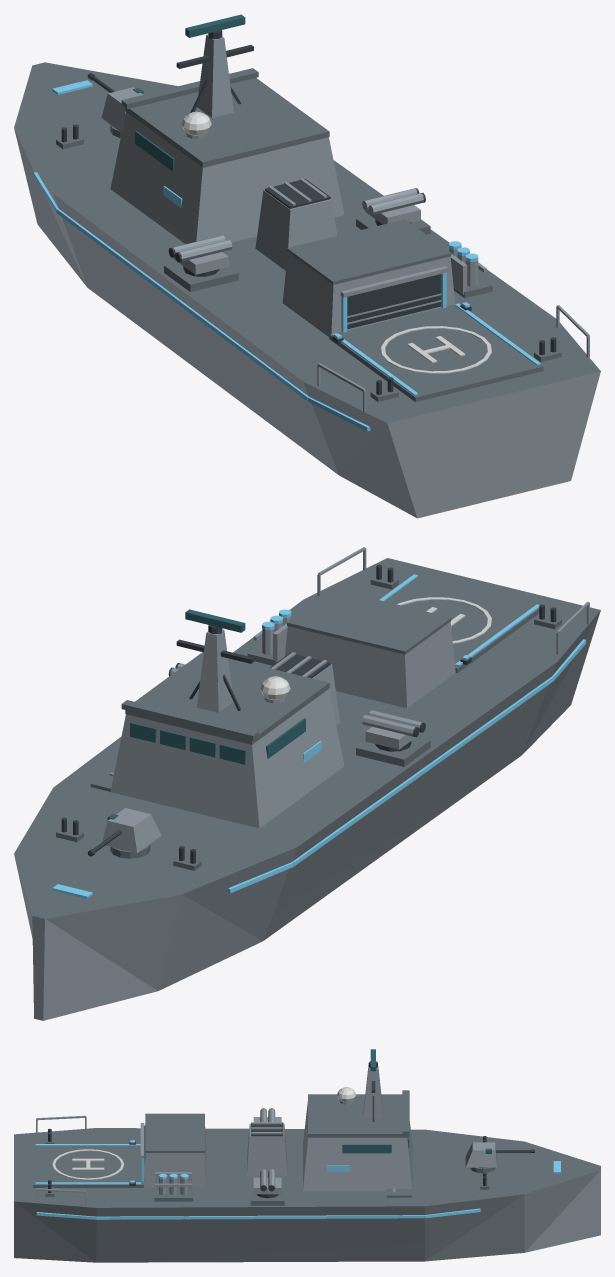
Rendered from ESC_ASW_T1.fbx.
3 views of the same model, one above another, from view 1: azimuth 30°, elevation 25°; view 2: azimuth 150°, elevation 25°; view 3: azimuth 270°, elevation 25° (orthographic). The views are drawn at different scales.
Parts seen in each view (by area): view 1: ContinuousHull.005, Deckhouse.005, HelicopterDeck, Roof.005, HangarRoof, AviationServiceHouse.001, FunnelEnclosure.005, AftFacingHangarDoor, NavMast.001, RoleHullStripe-1_1, BridgeBrow, TorpedoFoot_P (+6 smaller); view 2: ContinuousHull.005, Deckhouse.005, AviationServiceHouse.001, Roof.005, HangarRoof, HelicopterDeck, NavMast.001, PrimaryGunCupola.005, RoleHullStripe-1_1, BridgeBrow, TorpedoFoot_P, TorpedoCradle_P (+2 smaller); view 3: ContinuousHull.005, Deckhouse.005, HelicopterDeck, Roof.005, HangarRoof, AviationServiceHouse.001, FunnelEnclosure.005, RoleHullStripe1_1, NavMast.001, PrimaryGunCupola.005, BridgeSideGlass1, TorpedoFoot_S (+5 smaller).
Part boxes in pixels (bbox=[...]): ContinuousHull.005: bbox=[14, 62, 600, 518]; Deckhouse.005: bbox=[110, 112, 344, 243]; HelicopterDeck: bbox=[329, 304, 543, 402]; Roof.005: bbox=[125, 78, 329, 167]; HangarRoof: bbox=[287, 219, 451, 284]; AviationServiceHouse.001: bbox=[282, 252, 455, 336]; FunnelEnclosure.005: bbox=[255, 190, 336, 270]; AftFacingHangarDoor: bbox=[347, 274, 440, 329]; NavMast.001: bbox=[197, 34, 233, 117]; RoleHullStripe-1_1: bbox=[56, 208, 308, 400]; BridgeBrow: bbox=[121, 68, 258, 109]; TorpedoFoot_P: bbox=[164, 262, 238, 291]; ContinuousHull.005: bbox=[14, 558, 600, 1020]; Deckhouse.005: bbox=[110, 689, 344, 828]; AviationServiceHouse.001: bbox=[284, 622, 455, 708]; Roof.005: bbox=[125, 652, 329, 744]; HangarRoof: bbox=[287, 589, 451, 654]; HelicopterDeck: bbox=[385, 574, 539, 673]; NavMast.001: bbox=[196, 629, 233, 712]; PrimaryGunCupola.005: bbox=[102, 808, 161, 853]; RoleHullStripe-1_1: bbox=[292, 676, 553, 866]; BridgeBrow: bbox=[121, 700, 258, 740]; TorpedoFoot_P: bbox=[356, 737, 430, 766]; TorpedoCradle_P: bbox=[365, 726, 420, 749]; ContinuousHull.005: bbox=[14, 1128, 600, 1262]; Deckhouse.005: bbox=[303, 1101, 412, 1191]; HelicopterDeck: bbox=[33, 1145, 143, 1187]; Roof.005: bbox=[308, 1094, 407, 1137]; HangarRoof: bbox=[145, 1113, 204, 1152]; AviationServiceHouse.001: bbox=[143, 1125, 206, 1187]; FunnelEnclosure.005: bbox=[247, 1123, 287, 1176]; RoleHullStripe1_1: bbox=[96, 1215, 424, 1219]; NavMast.001: bbox=[363, 1065, 382, 1117]; PrimaryGunCupola.005: bbox=[465, 1142, 496, 1167]; BridgeSideGlass1: bbox=[342, 1144, 391, 1153]; TorpedoFoot_S: bbox=[250, 1185, 284, 1205].
Size of the model in its own units: 290 by 310 by 900.
